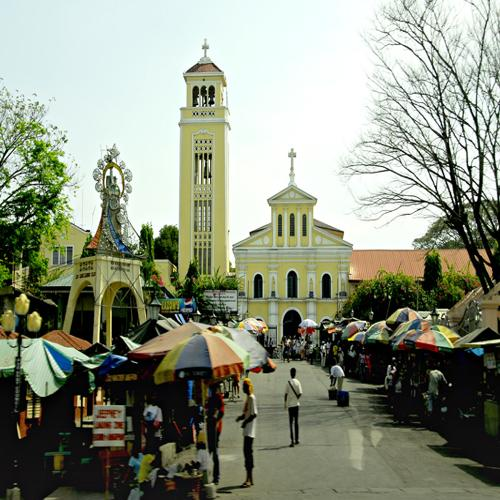Manaoag Church: (166, 36, 357, 357)
